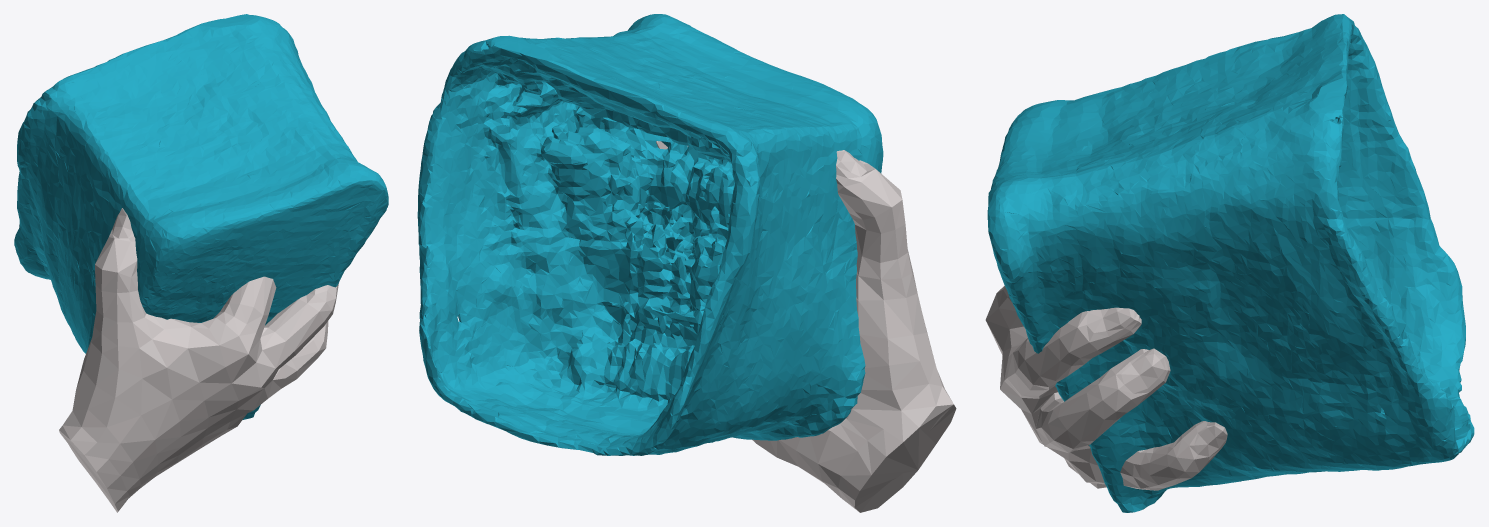
The picture shows the model from 3 angles, left to right: view 1: azimuth 30°, elevation 25°; view 2: azimuth 150°, elevation 25°; view 3: azimuth 270°, elevation 25°; orthographic projection. The views are drawn at different scales.
Visible parts, largest first — view 1: world; view 2: world; view 3: world.
Part boxes in pixels (<box>): world: <box>14,14,388,512</box>; world: <box>417,14,956,512</box>; world: <box>985,14,1474,512</box>.
Size of the model in its own units: 0.1766 by 0.1996 by 0.1679.
